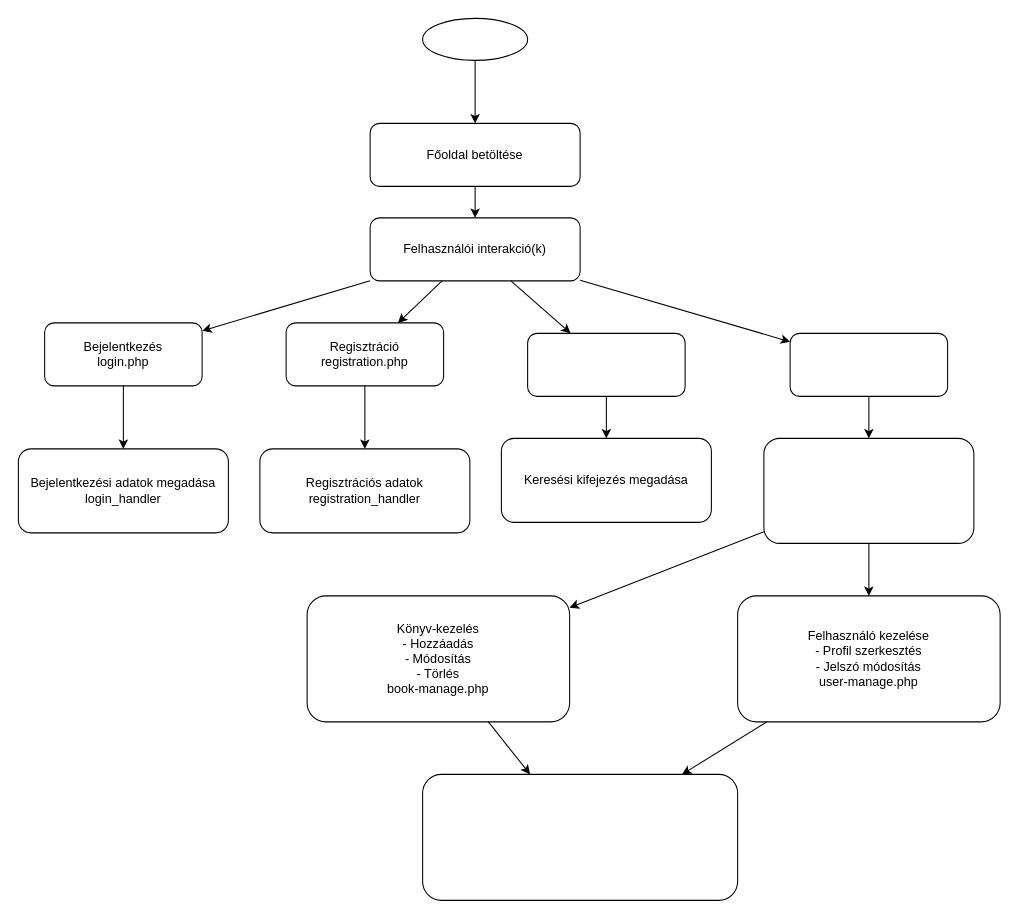
The diagram is 1018 pixels wide and 919 high, and some of its shapes have lost their labels. Each missing label, with the centre of its shape:
Admin funkciók - Felhasználók megtekintése - Felhasználók törlése: [580,836]
Felhasználói adatok megtekintése - Kedvenc könyvek - Olvasott lista - Varólista: [868,490]
Keresési oldal search.php: [606,364]
Kezdés: [475,38]
Profil oldal profile.php: [868,364]
